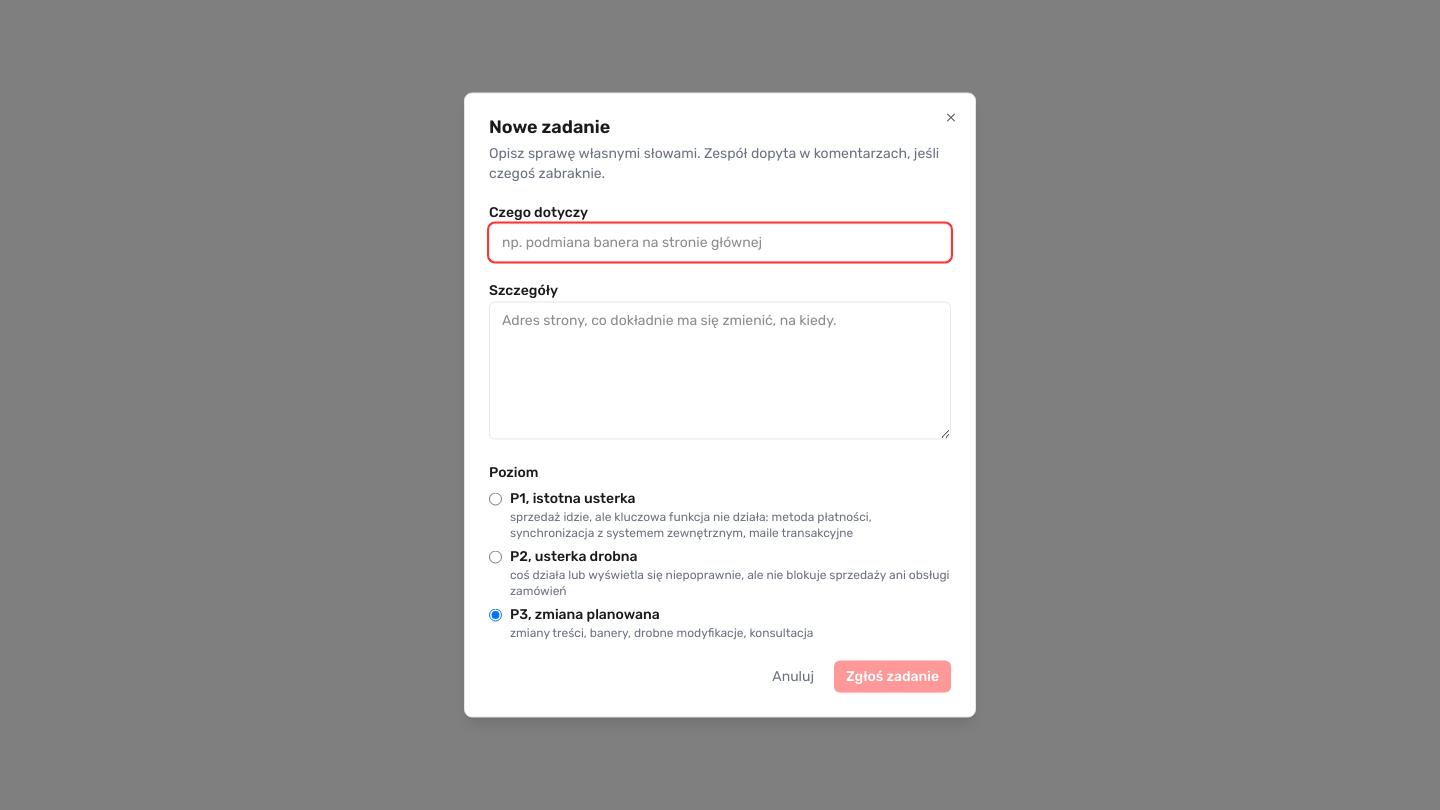
Scenario: wysyłka zgłoszenia › awaria NIE kasuje tego, co klient napisał
Type "Podmiana banera" into the field labelled "Czego dotyczy".
click(720, 242); type("Podmiana banera")  # box [489,224,951,262]
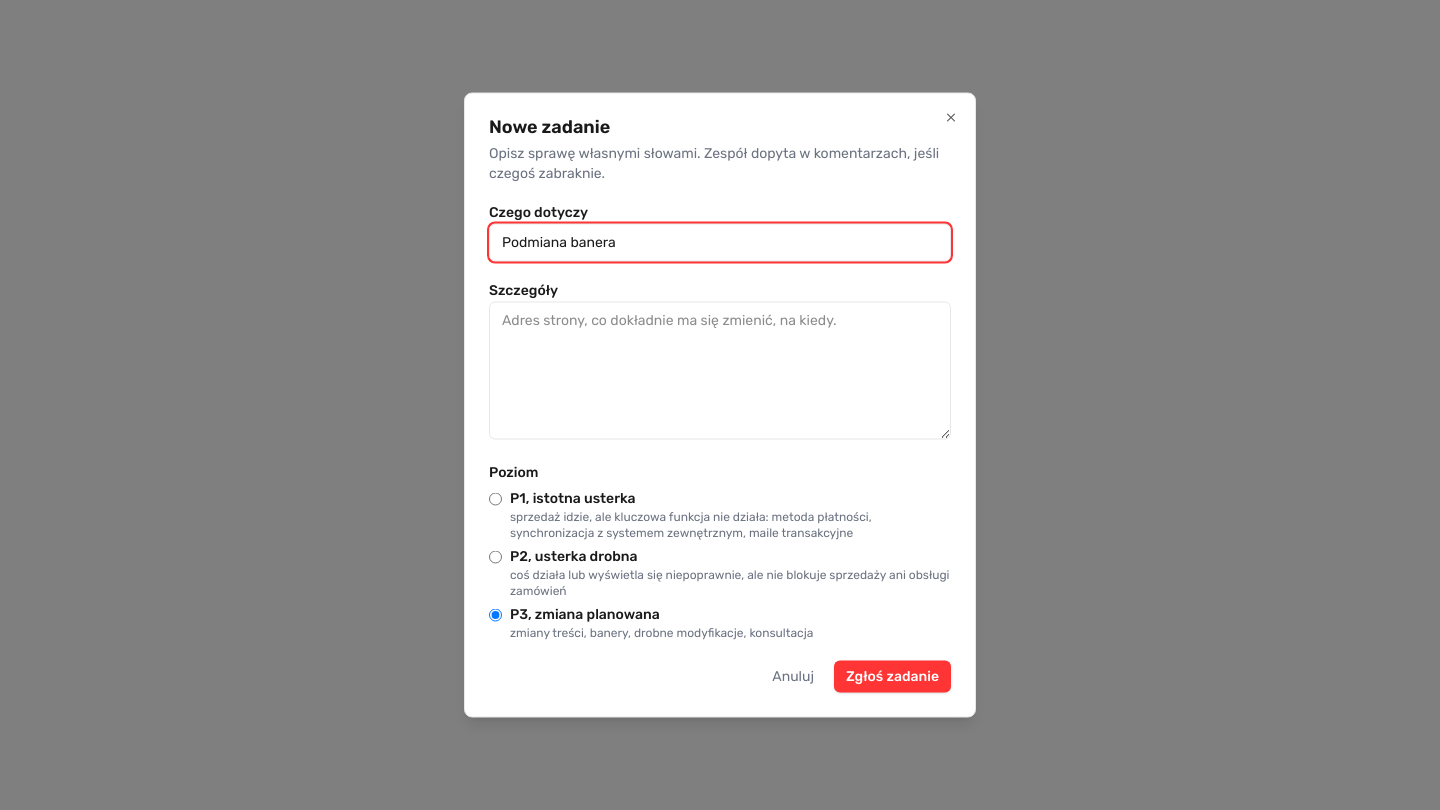
Click the button "Zgłoś zadanie".
click(892, 676)  # box [834,660,951,692]
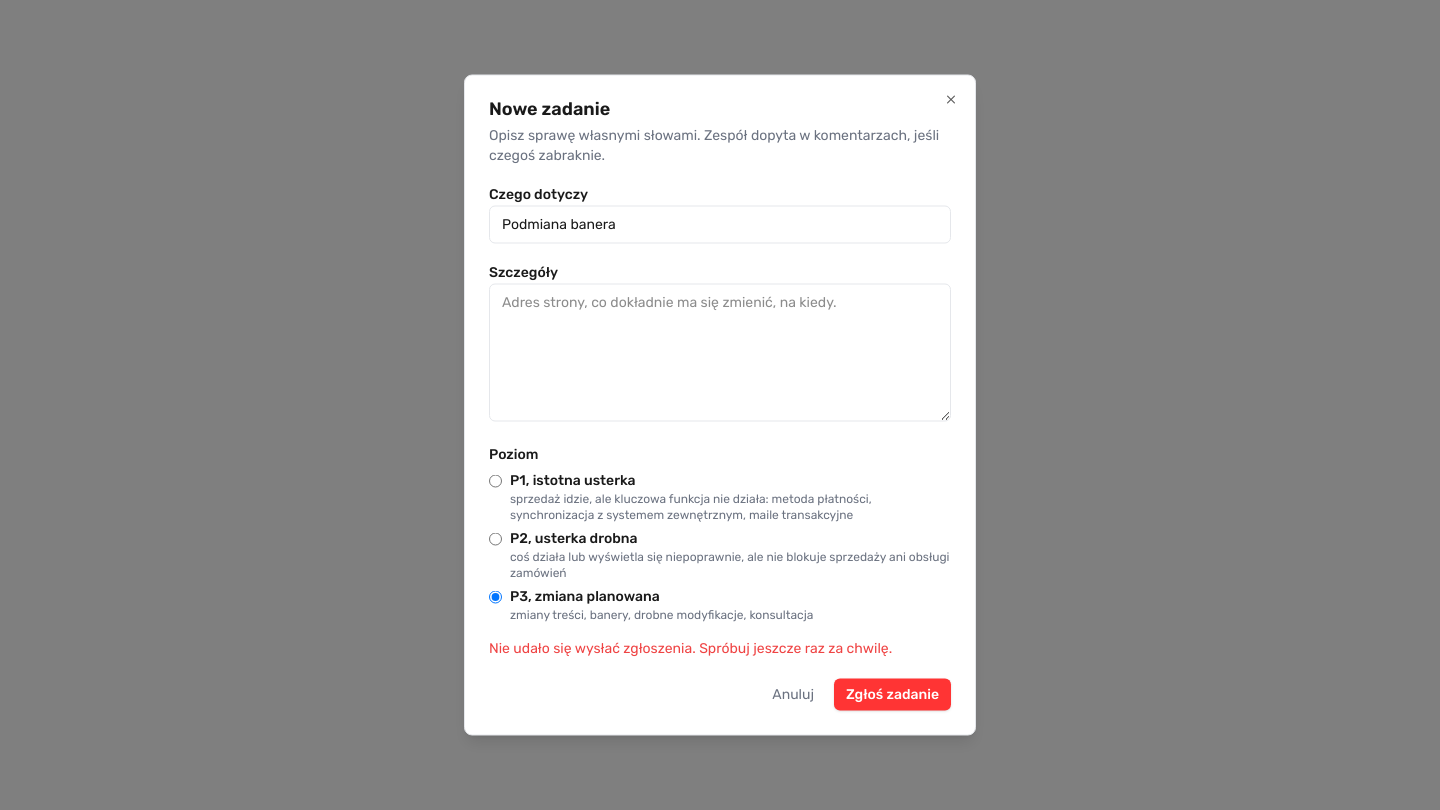
Check: the message "Nie udało się wysłać zgłoszenia. Spróbuj jeszcze raz za chwilę." is shown, box [489,638,951,658]
